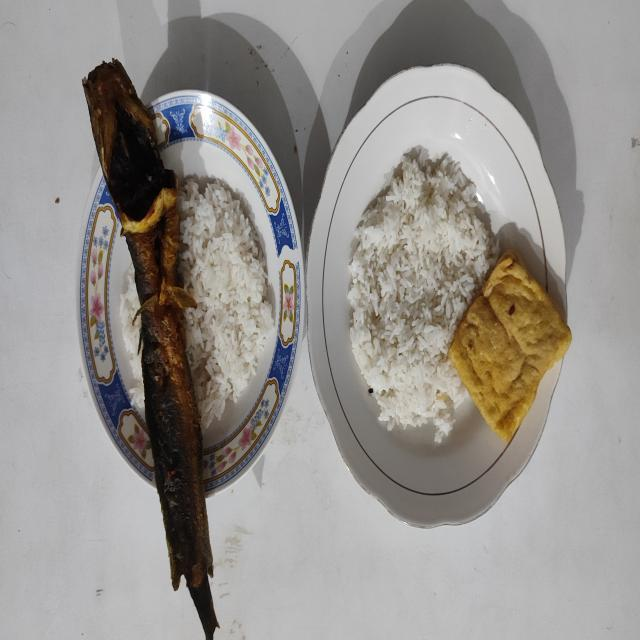nasi_putih: (348, 146, 499, 443), (178, 179, 276, 431), (119, 263, 144, 411)
tahu_goreng: (448, 251, 572, 441)
